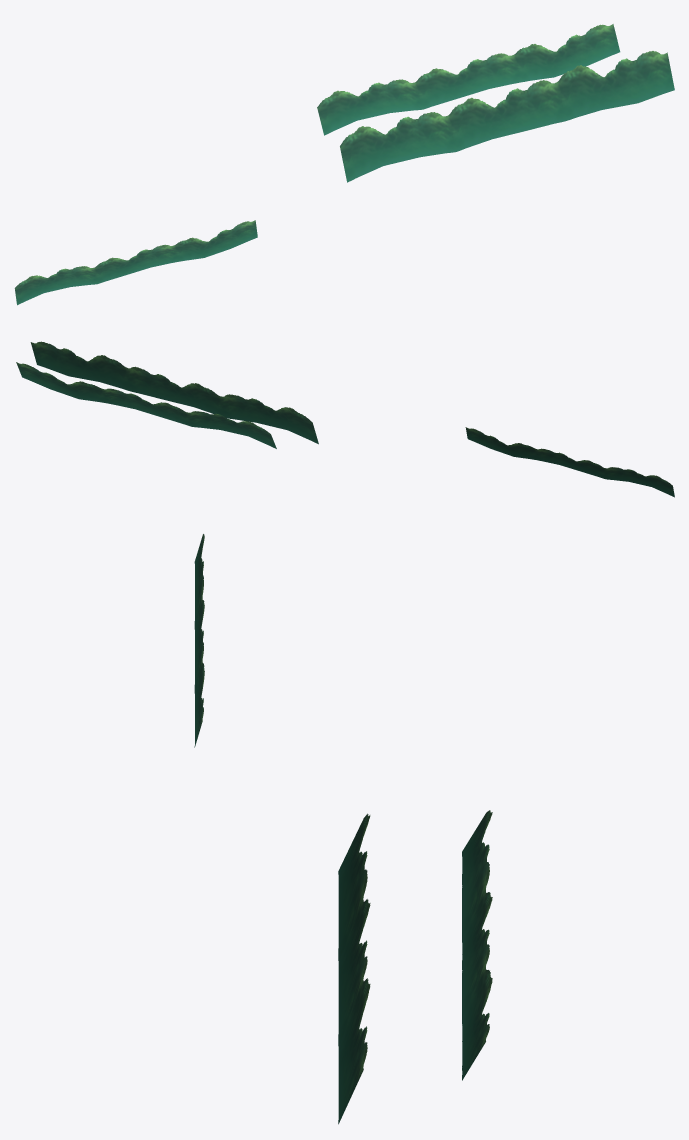
Rendered from Castle Tower_Grass BG2.FBX.
3 views of the same model, one above another, from view 1: azimuth 30°, elevation 25°; view 2: azimuth 150°, elevation 25°; view 3: azimuth 270°, elevation 25° (orthographic). The views are drawn at different scales.
Parts seen in each view (by area): view 1: Grass BG2; view 2: Grass BG2; view 3: Grass BG2.
Boxes of the visible parts, x1,y1,x2,y2 form: Grass BG2: (14, 24, 674, 305); Grass BG2: (16, 341, 674, 497); Grass BG2: (194, 534, 492, 1124).
Bounding box in the file's own units: 16430 × 3540 × 1375.
